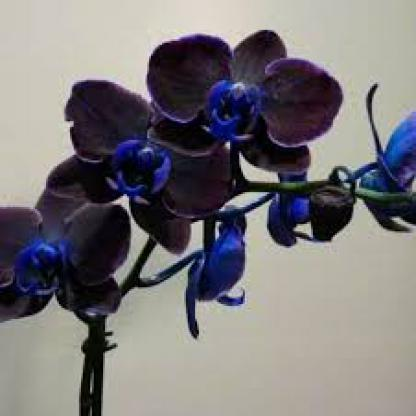ANGGREK: (20, 20, 403, 393)
